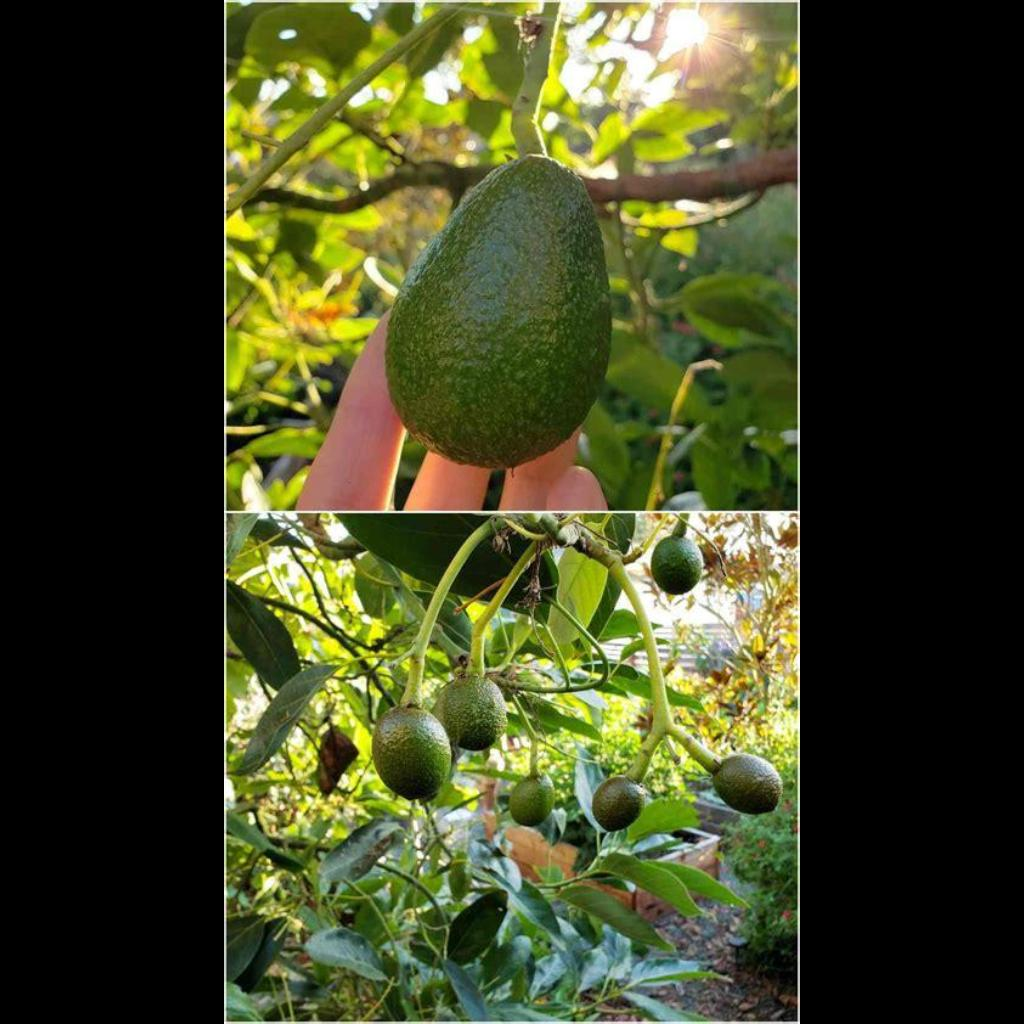Healthy: (372, 148, 630, 468), (368, 696, 464, 802), (444, 662, 516, 748), (648, 529, 708, 597)
